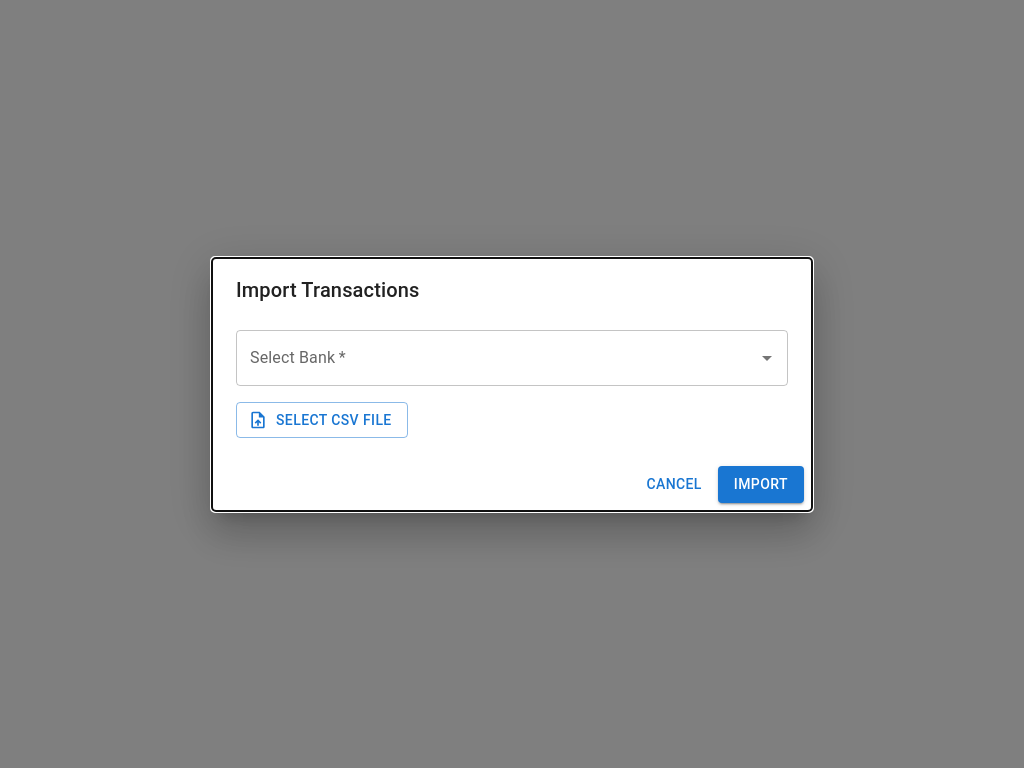
it: ImportDialog › shows validation error when submitting without importer
Click the button "Import". click: (761, 484)
box: [718, 466, 804, 502]
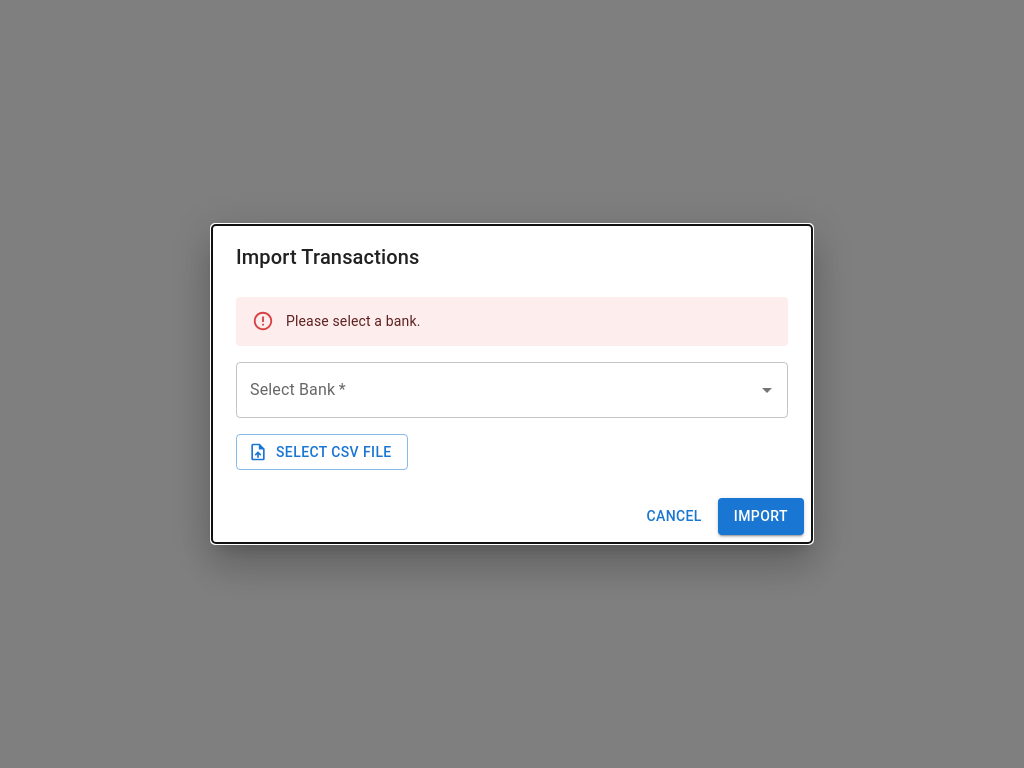
Expected: the message "Please select a bank." is shown, [236, 298, 788, 346]
Expected: the text "Please select a bank." is shown, [286, 314, 420, 330]
